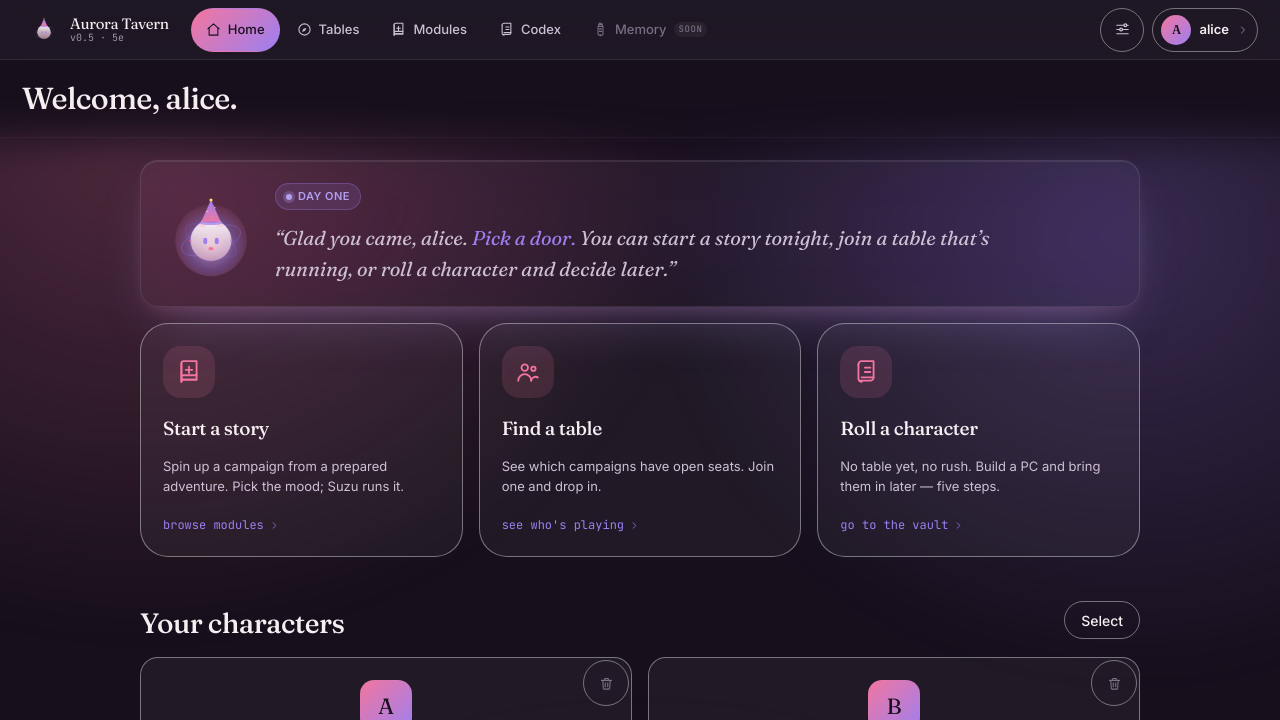
Bulk delete — characters grid, select mode › Undo loops restoreCharacter over the successfully-deleted ids
What coordinates should you click on to do the following:
click the button "Select"
I would click on:
 (1102, 620)
Its box is [1064,601,1140,639].
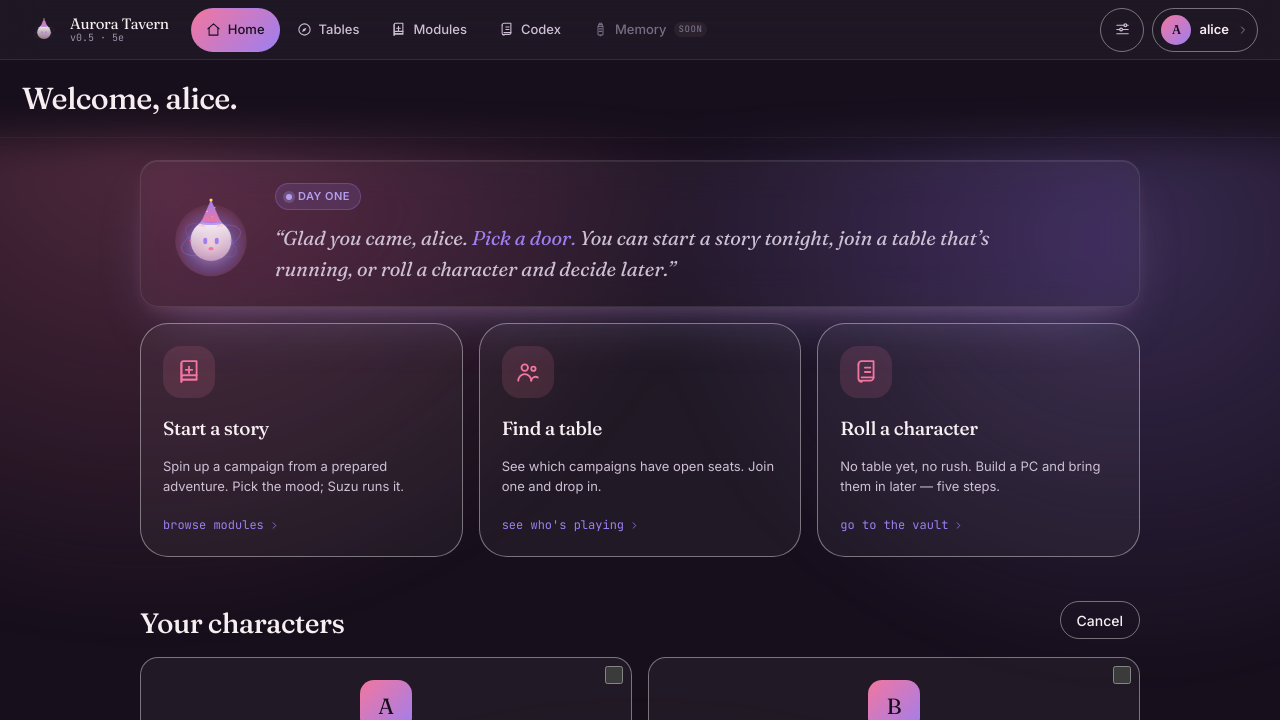
What coordinates should you click on to do the following:
click the checkbox named "select aria"
I would click on:
 (614, 675)
Its box is [605,666,623,684].
(page scrolled)
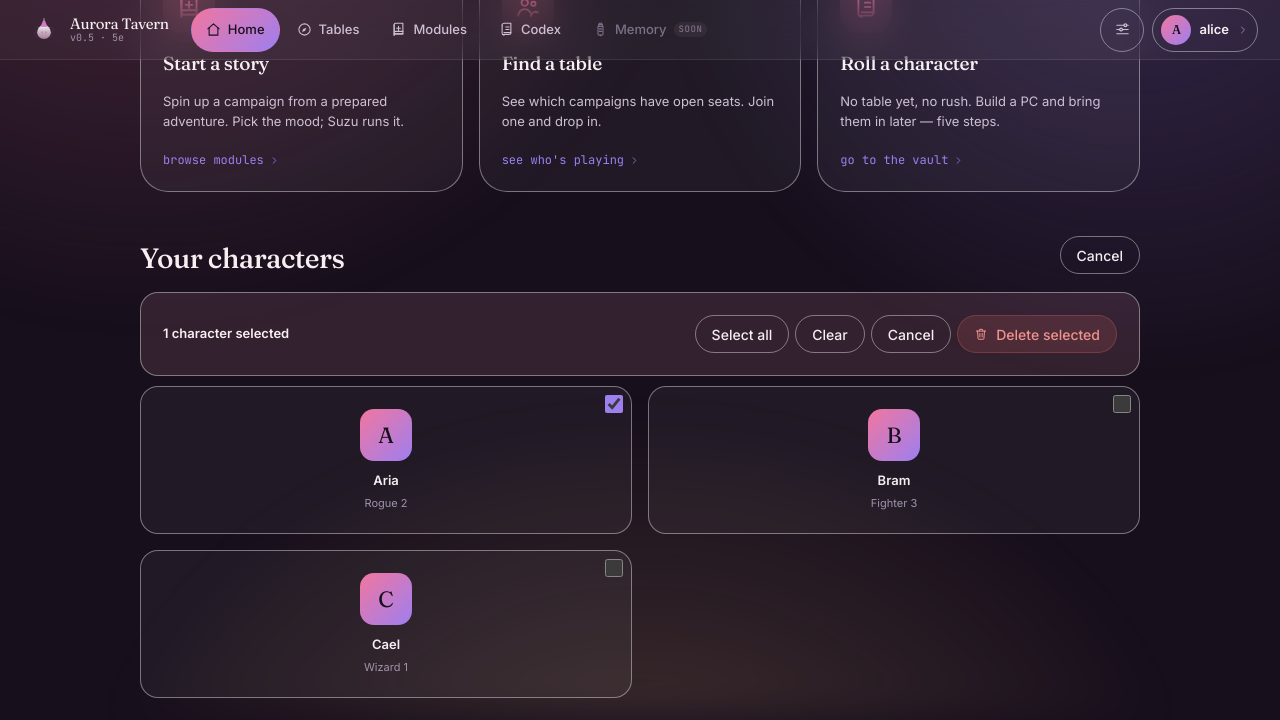
What coordinates should you click on to do the following:
click the checkbox named "select bram"
I would click on:
 (1122, 404)
Its box is [1113,395,1131,413].
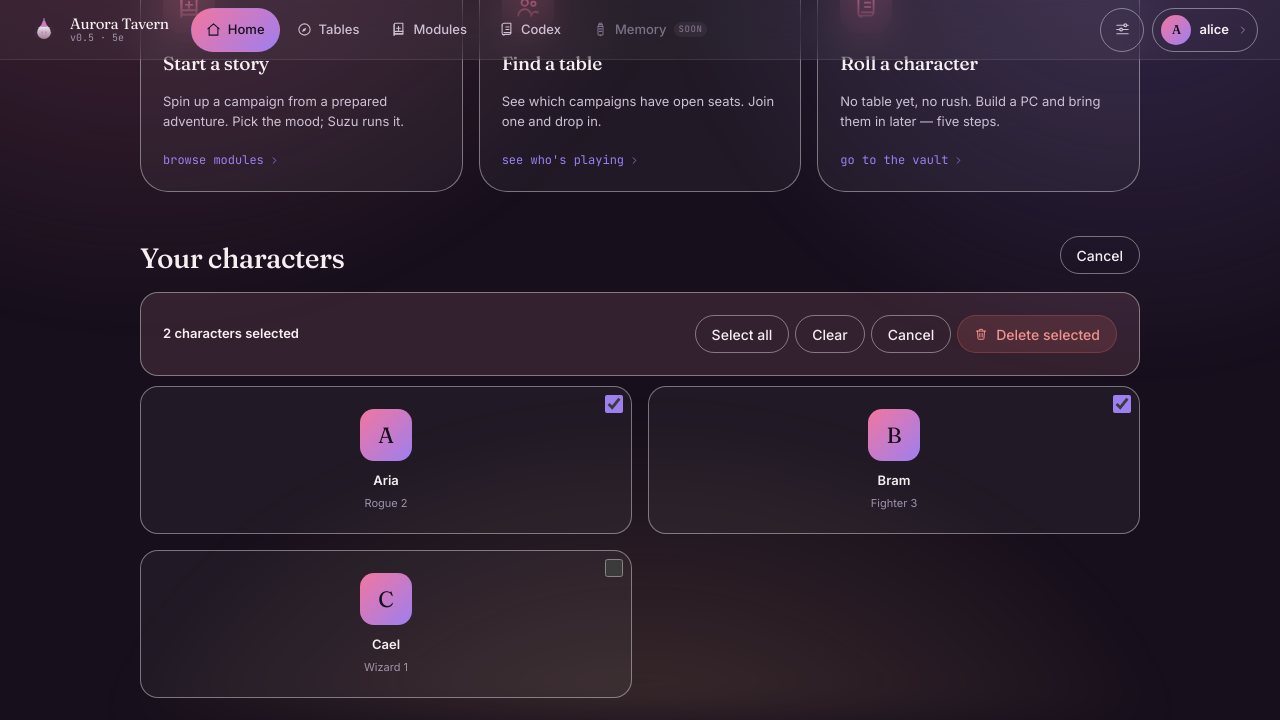
What coordinates should you click on to do the following:
click the button "Delete selected"
I would click on:
 (1037, 334)
Its box is [957,315,1117,353].
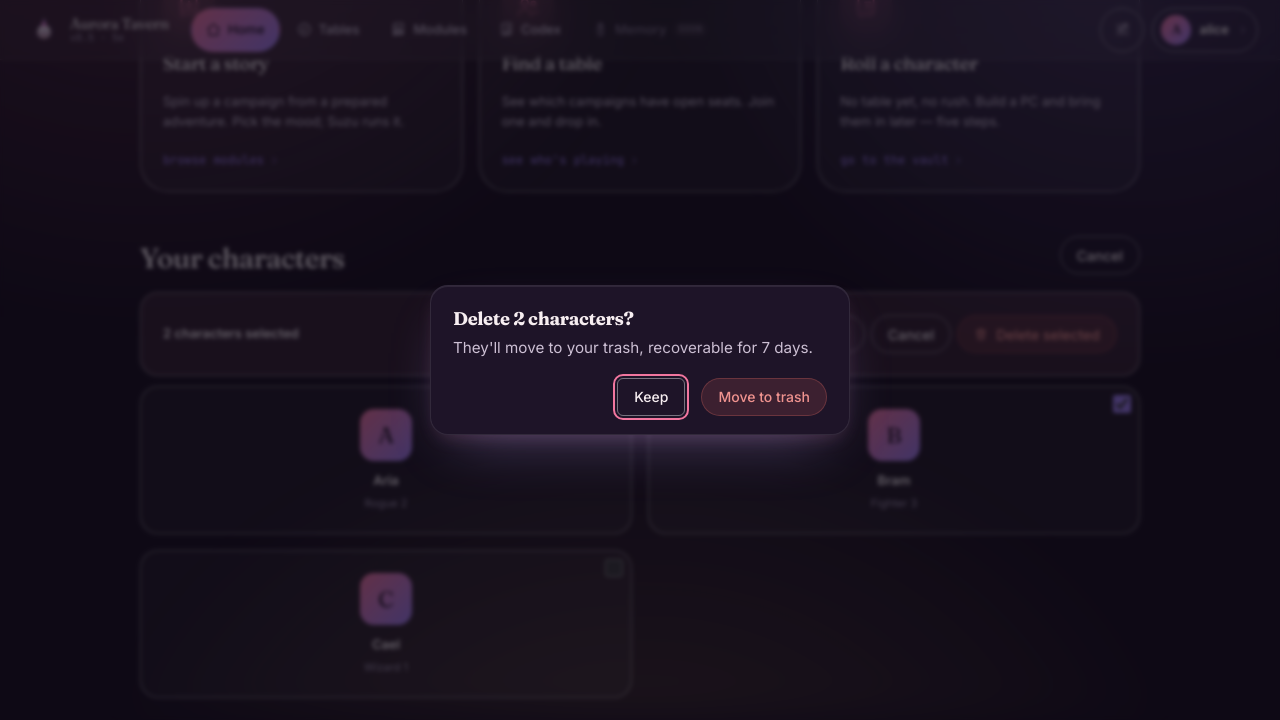
Expected: the dialog is shown, [430,285,850,435]
What coordinates should you click on to do the following:
click the button "Move to trash"
I would click on:
 (764, 397)
Its box is [702,378,827,416].
(page scrolled)
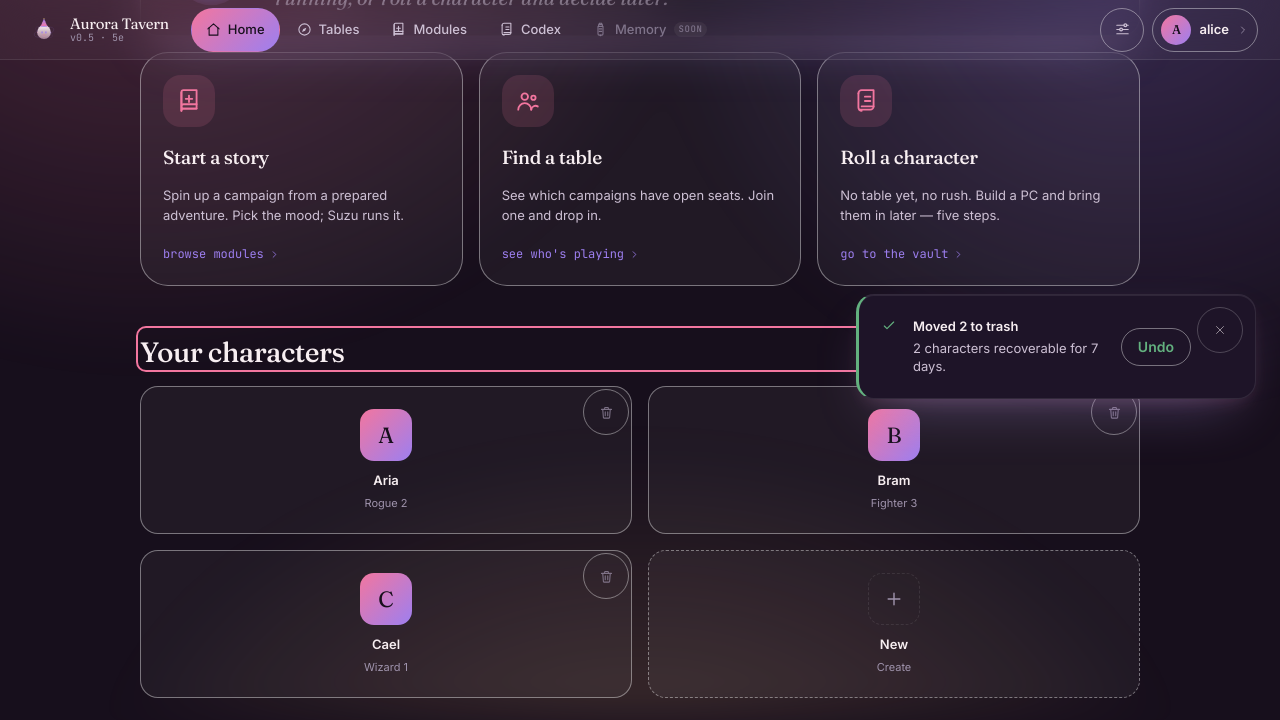
What coordinates should you click on to do the following:
click the button "Undo"
I would click on:
 (1156, 347)
Its box is [1121,328,1191,366].
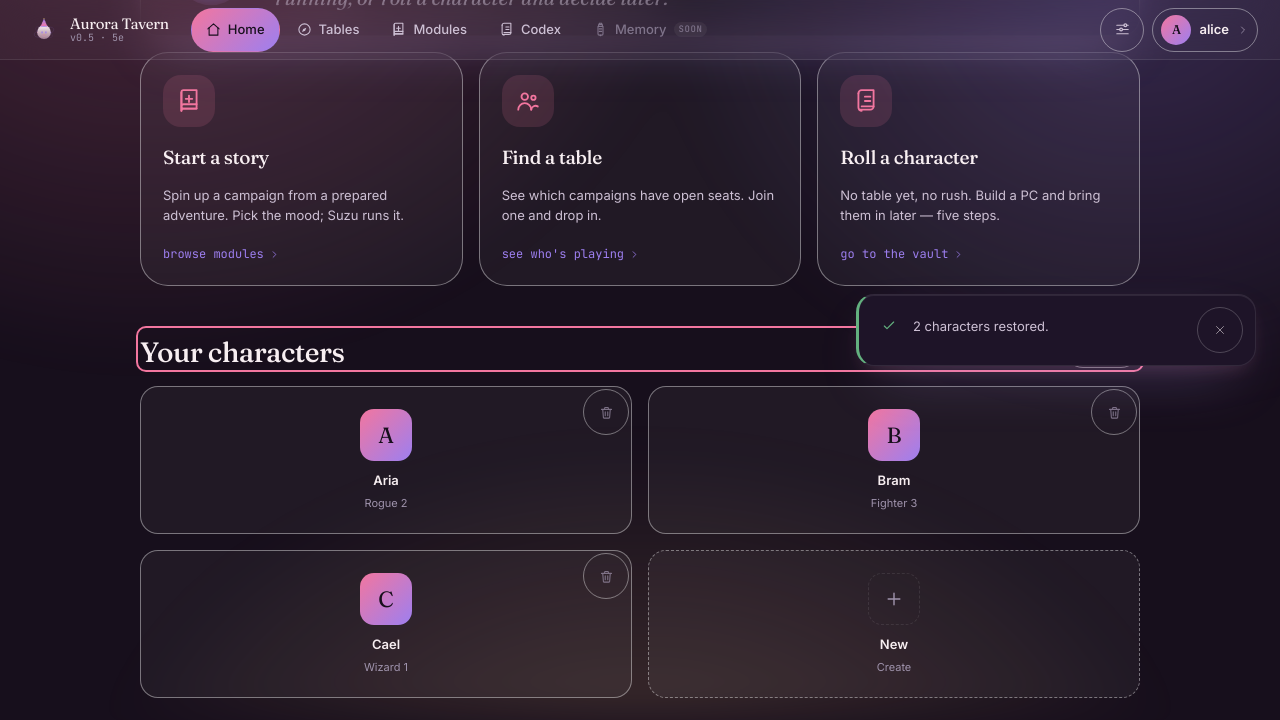
Expected: the text "2 characters restored." is shown, [913,318,1049,334]
